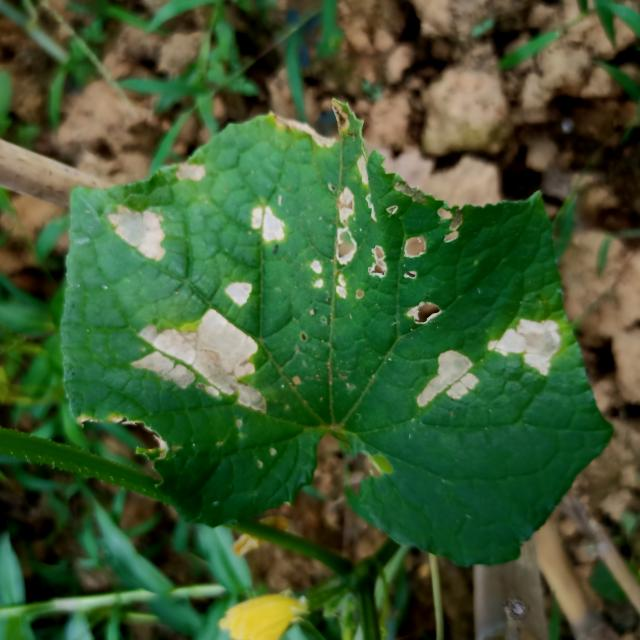disease_cucumber: (125, 306, 286, 418), (310, 186, 362, 301), (487, 305, 566, 380), (410, 344, 482, 414), (101, 200, 171, 269), (370, 228, 430, 285), (241, 198, 288, 251), (174, 160, 214, 184), (222, 278, 258, 304)
